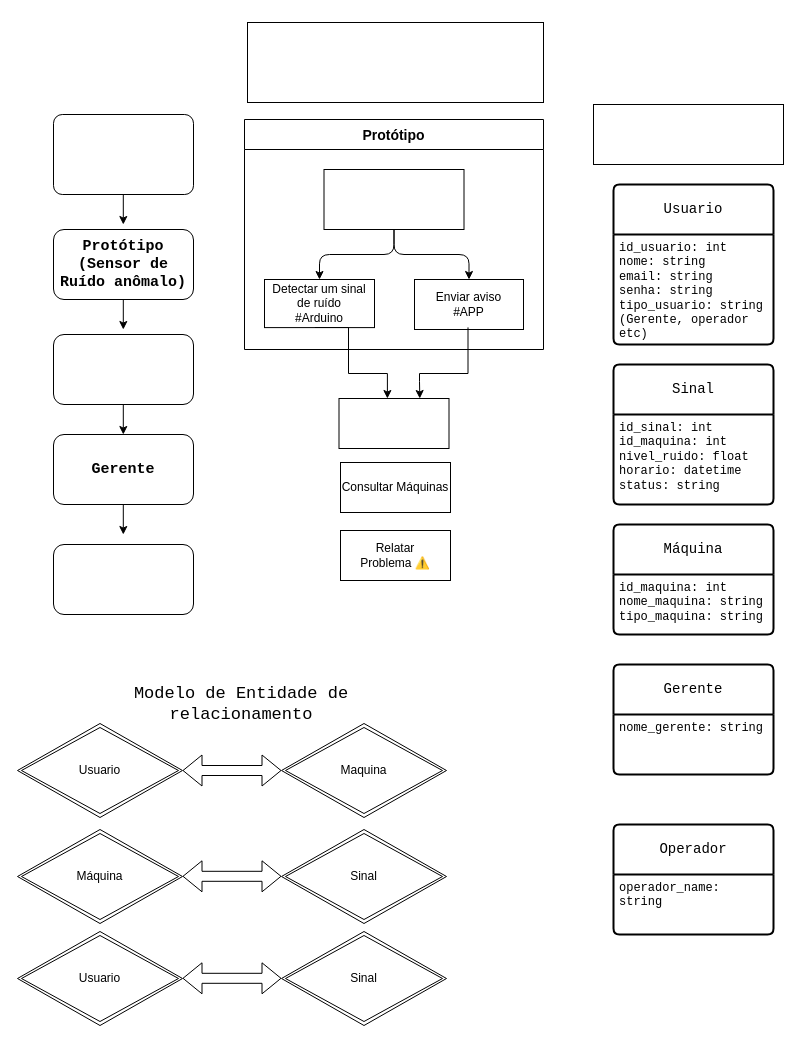
The diagram is 801 pixels wide and 1043 high, and some of its shapes have lost their labels. Here are the shapes that lost their labels. From the top down, the centre of each, then its label:
At point 395,62: "Diagrama de casos de uso UML".
At point 123,154: "Autores".
At point 688,134: "Diagrama de classes".
At point 393,199: "Sensor detectar um sinal acima do limites em db".
At point 123,369: "App".
At point 393,423: "Login".
At point 123,579: "Operadores".
